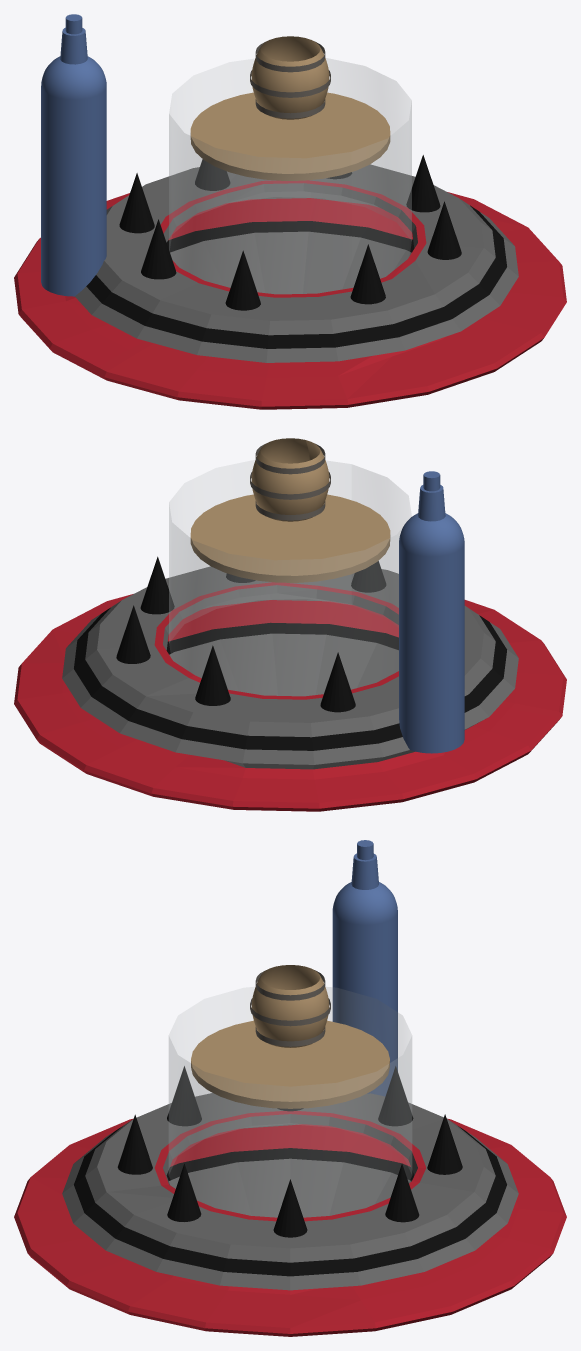
The model's file is deepseek41_t05.glb.
3 views of the same model, one above another, from view 1: azimuth 30°, elevation 25°; view 2: azimuth 150°, elevation 25°; view 3: azimuth 270°, elevation 25° (orthographic).
Parts seen in each view (by area): view 1: slot_anchor_saucer, slot_dome, slot_tank, slot_disc, slot_barrel, slot_barrel_hoops; view 2: slot_anchor_saucer, slot_dome, slot_tank, slot_disc, slot_barrel, slot_barrel_hoops; view 3: slot_anchor_saucer, slot_dome, slot_disc, slot_tank, slot_barrel, slot_barrel_hoops.
Boxes of the visible parts, x1,y1,x2,y2 form: slot_anchor_saucer: [14, 155, 566, 409]; slot_dome: [169, 58, 411, 293]; slot_tank: [41, 14, 106, 296]; slot_disc: [190, 92, 390, 180]; slot_barrel: [251, 36, 329, 119]; slot_barrel_hoops: [250, 41, 330, 118]; slot_anchor_saucer: [14, 556, 566, 811]; slot_dome: [169, 460, 411, 695]; slot_tank: [399, 471, 464, 753]; slot_disc: [190, 494, 390, 582]; slot_barrel: [251, 438, 329, 521]; slot_barrel_hoops: [250, 443, 330, 520]; slot_anchor_saucer: [14, 1066, 566, 1336]; slot_dome: [169, 987, 411, 1216]; slot_disc: [191, 1020, 389, 1108]; slot_tank: [332, 840, 397, 1096]; slot_barrel: [251, 965, 329, 1047]; slot_barrel_hoops: [250, 970, 330, 1046].
Size of the model in its own units: 2 by 1.48 by 2.
6 materials, 1 textured.
